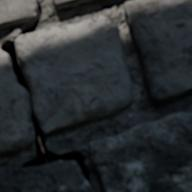brick: (90, 113, 191, 191), (125, 0, 191, 105), (0, 161, 93, 191), (0, 0, 37, 27), (53, 0, 90, 8)
broken_brick: (16, 10, 134, 136), (0, 51, 34, 154)
crack: (0, 2, 93, 189)
